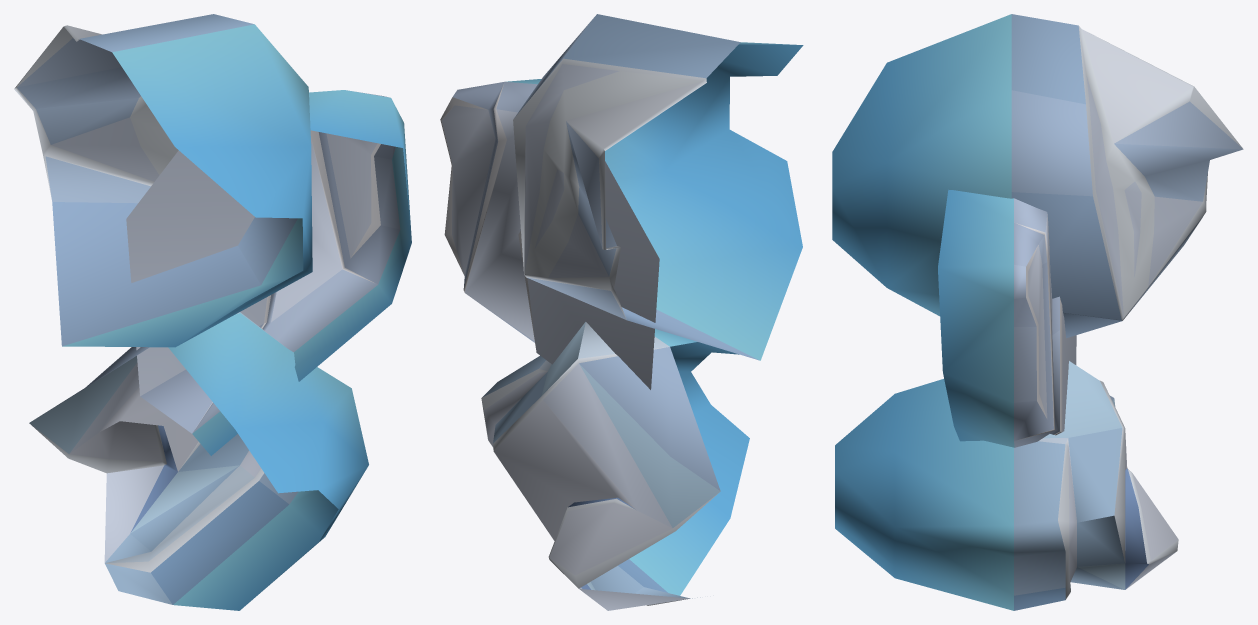
Rendered from HerbertBaseIceA.fbx.
The picture shows the model from 3 angles, left to right: view 1: azimuth 30°, elevation 25°; view 2: azimuth 150°, elevation 25°; view 3: azimuth 270°, elevation 25°; orthographic projection.
Parts seen in each view (by area): view 1: HerbertBaseIceA; view 2: HerbertBaseIceA; view 3: HerbertBaseIceA.
Boxes of the visible parts, x1,y1,x2,y2 form: HerbertBaseIceA: (14,14,411,610); HerbertBaseIceA: (440,14,803,610); HerbertBaseIceA: (832,14,1243,610).
Bounding box in the file's own units: 450 × 745 × 490.
